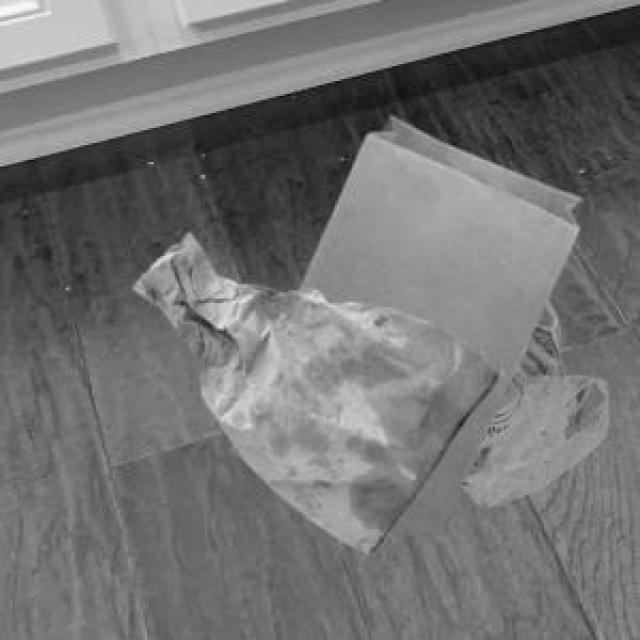paper: (297, 113, 578, 540), (130, 230, 499, 553)
